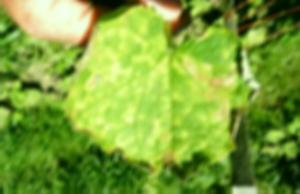Tomato leaf bacterial spot: (52, 2, 268, 186)
